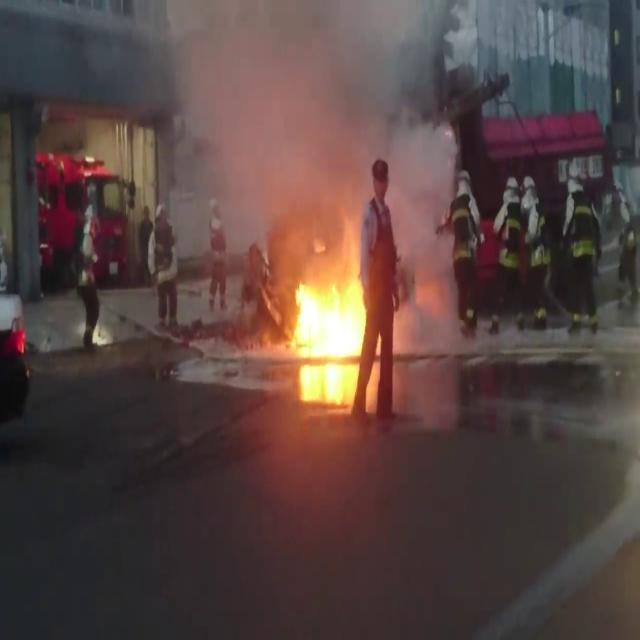Fire: (295, 284, 359, 360)
Smoke: (224, 0, 413, 160)
